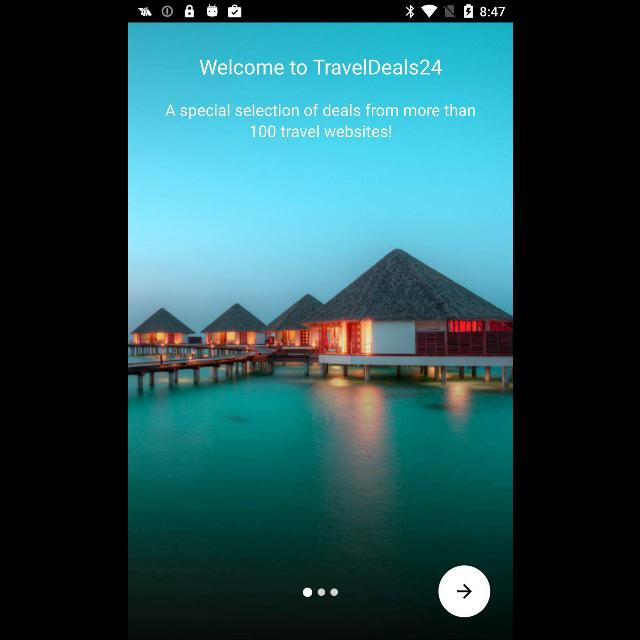backgroundimage: (128, 22, 512, 640)
button: (438, 565, 490, 617)
pageindicator: (302, 587, 338, 597)
text: (164, 104, 474, 138), (199, 59, 441, 76)
uppertaskbar: (128, 1, 512, 23)
